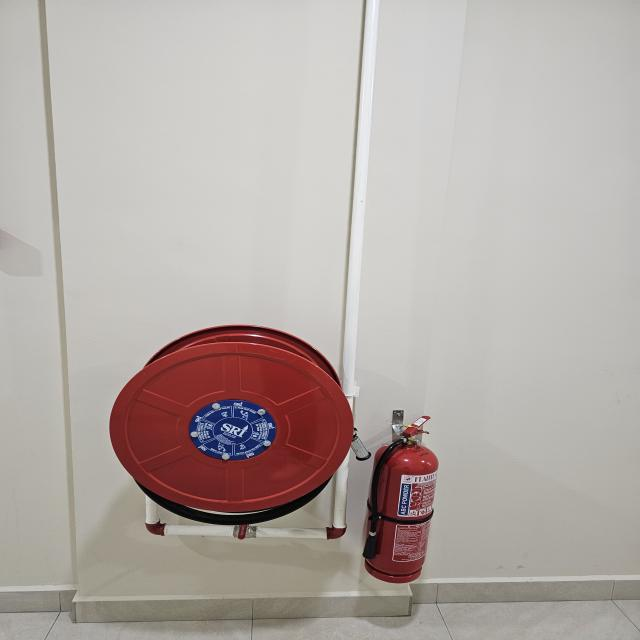obstacle: (108, 322, 358, 542), (359, 408, 443, 586)
